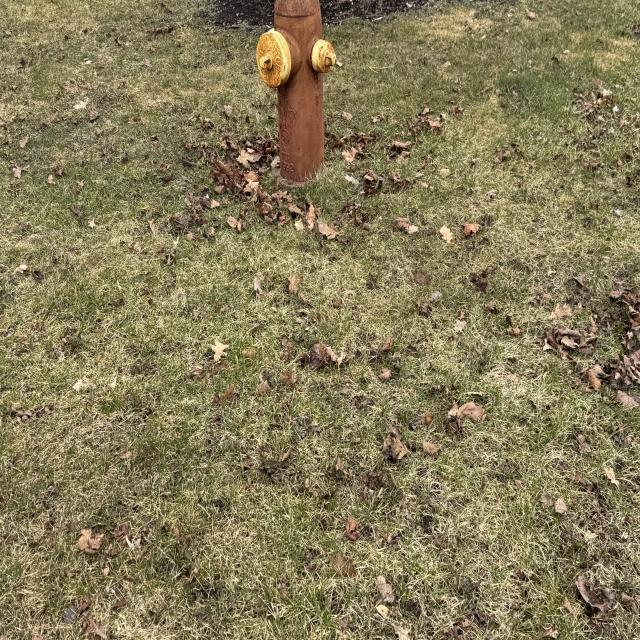Fire hydrant: (254, 1, 340, 186)
